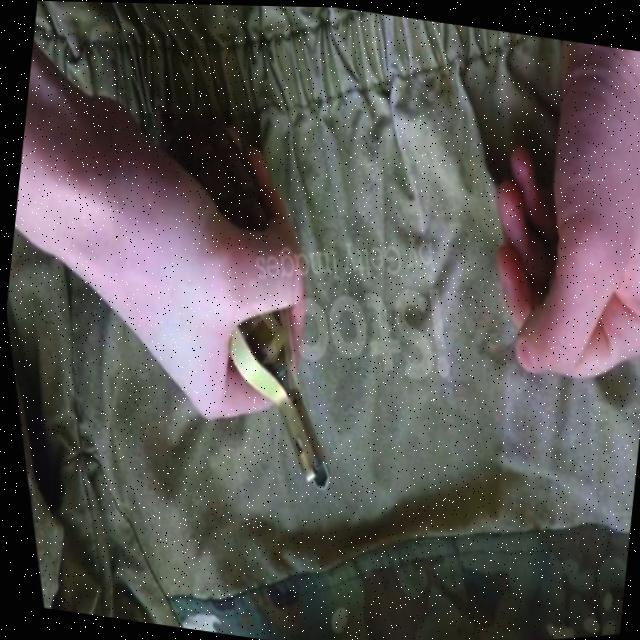grenade: (115, 90, 372, 512)
